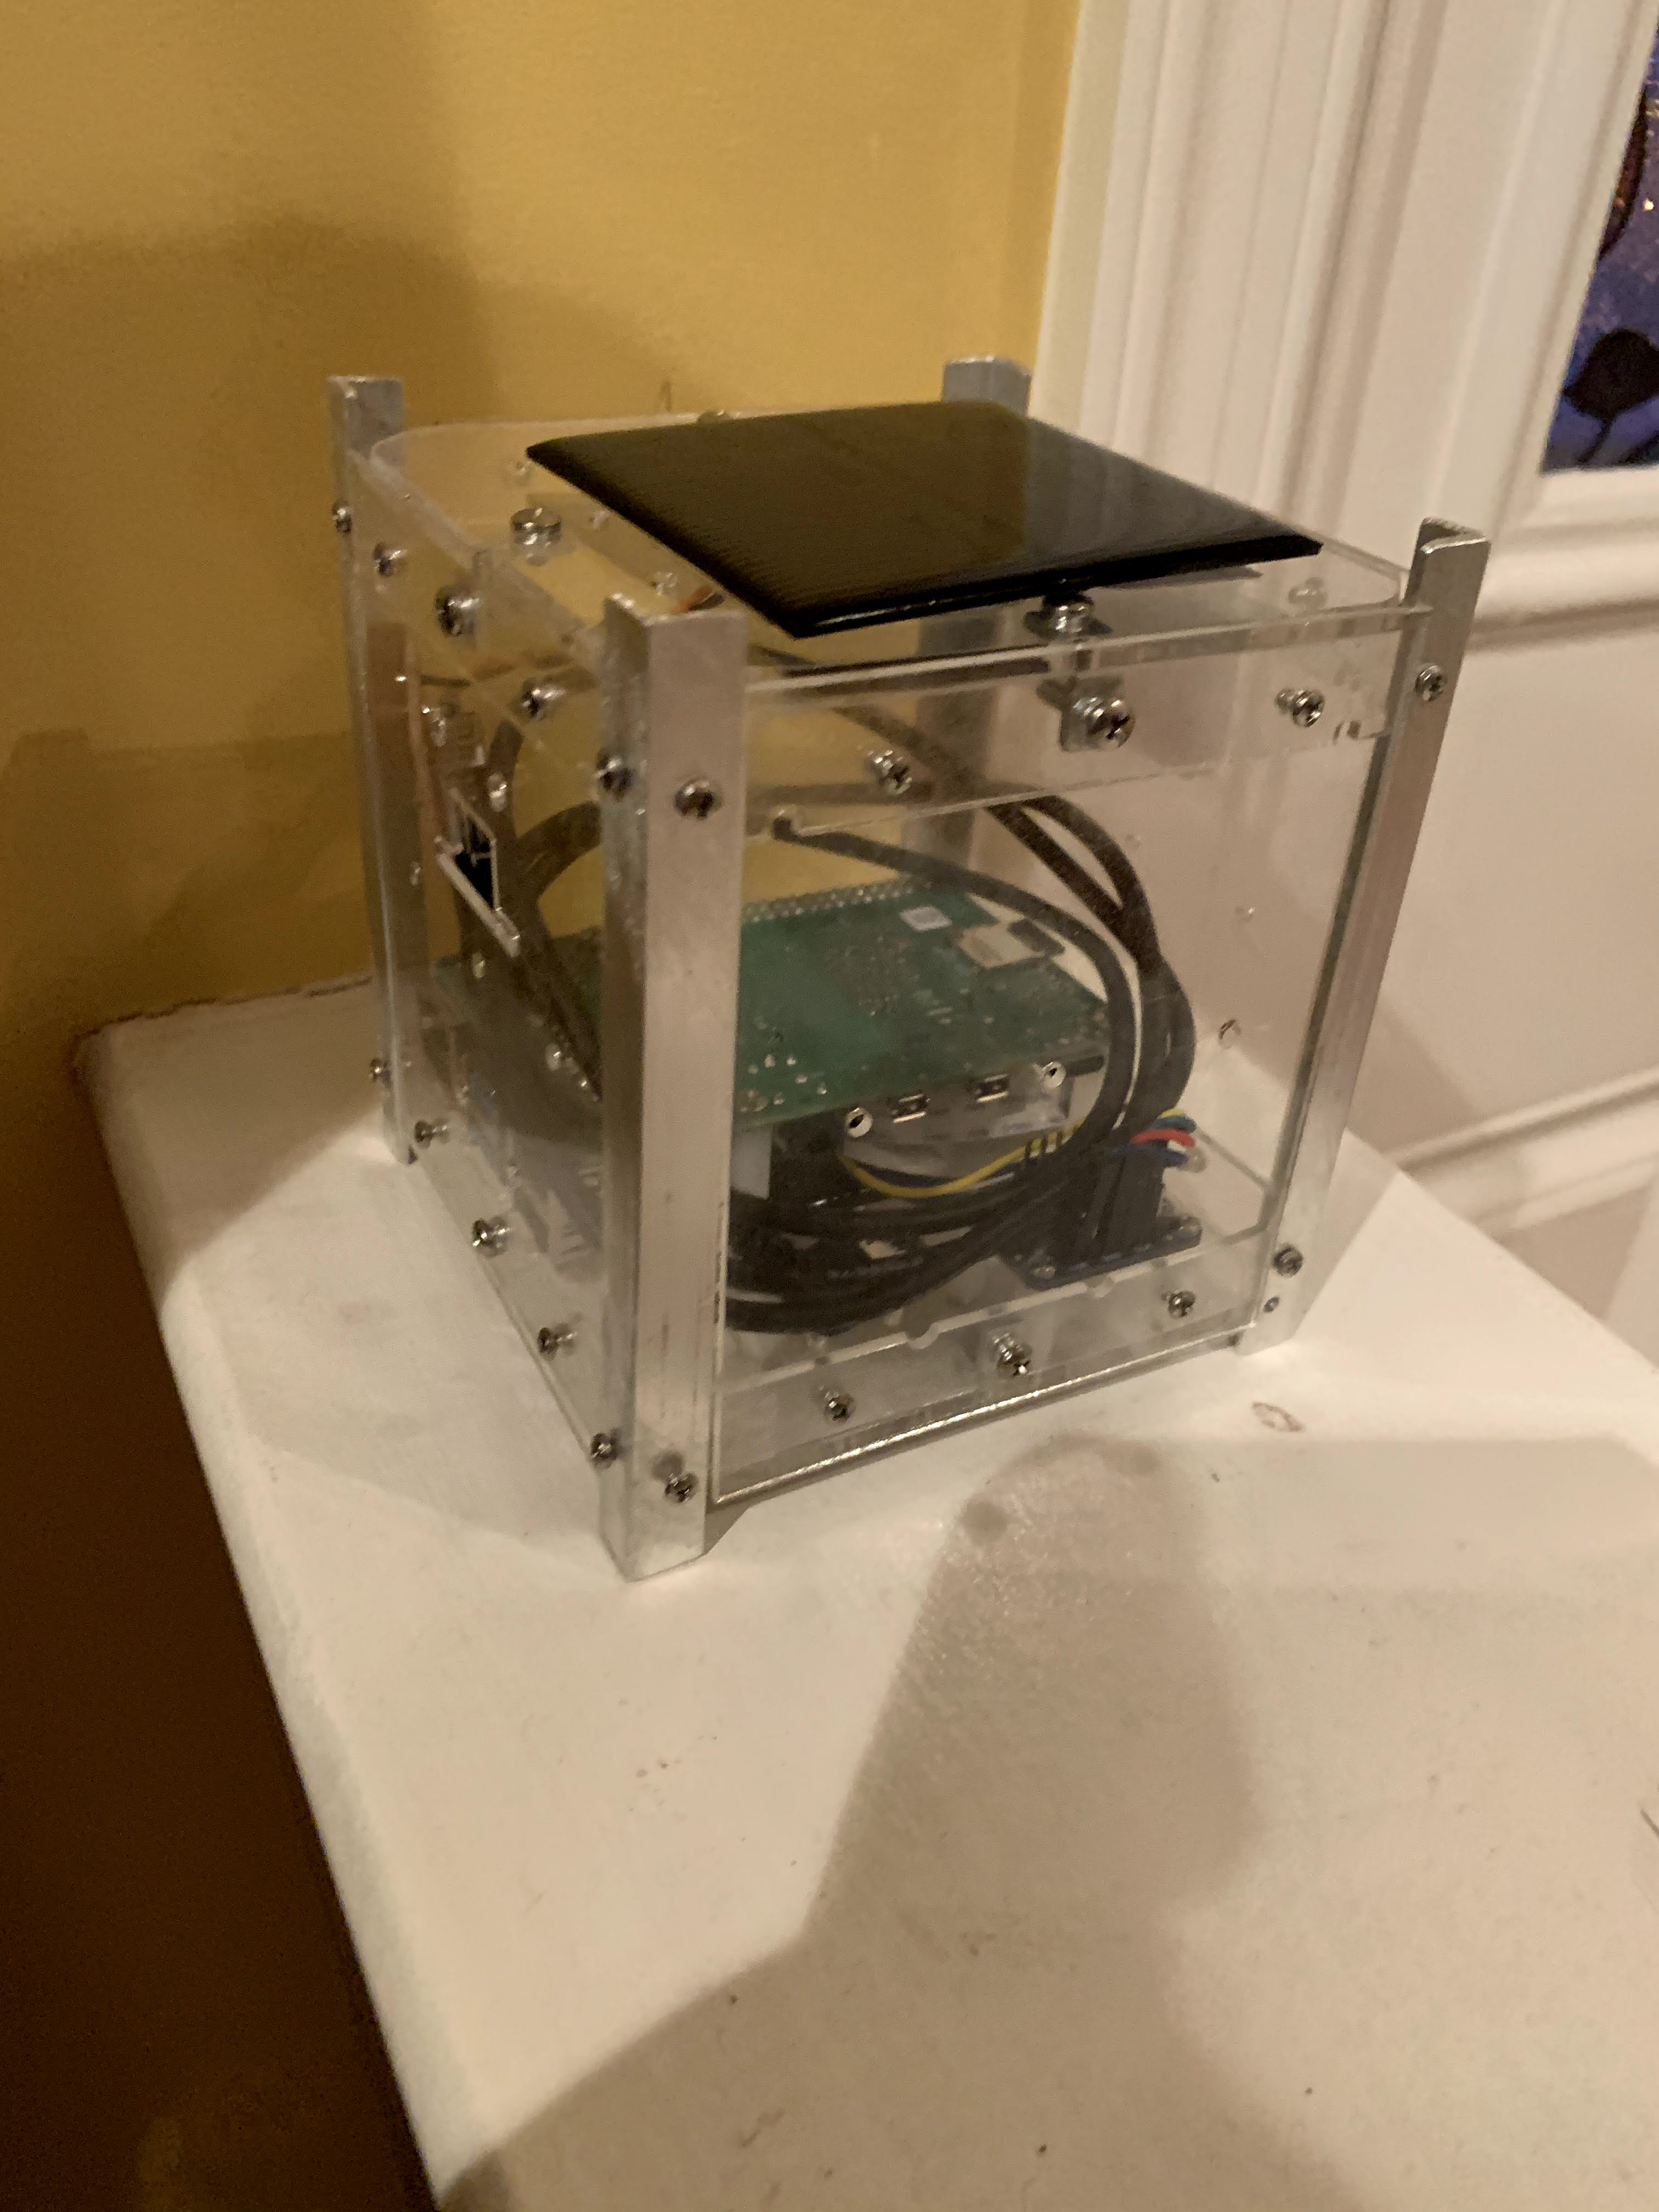Space-debris-cubesat: (282, 345, 1544, 1637)
